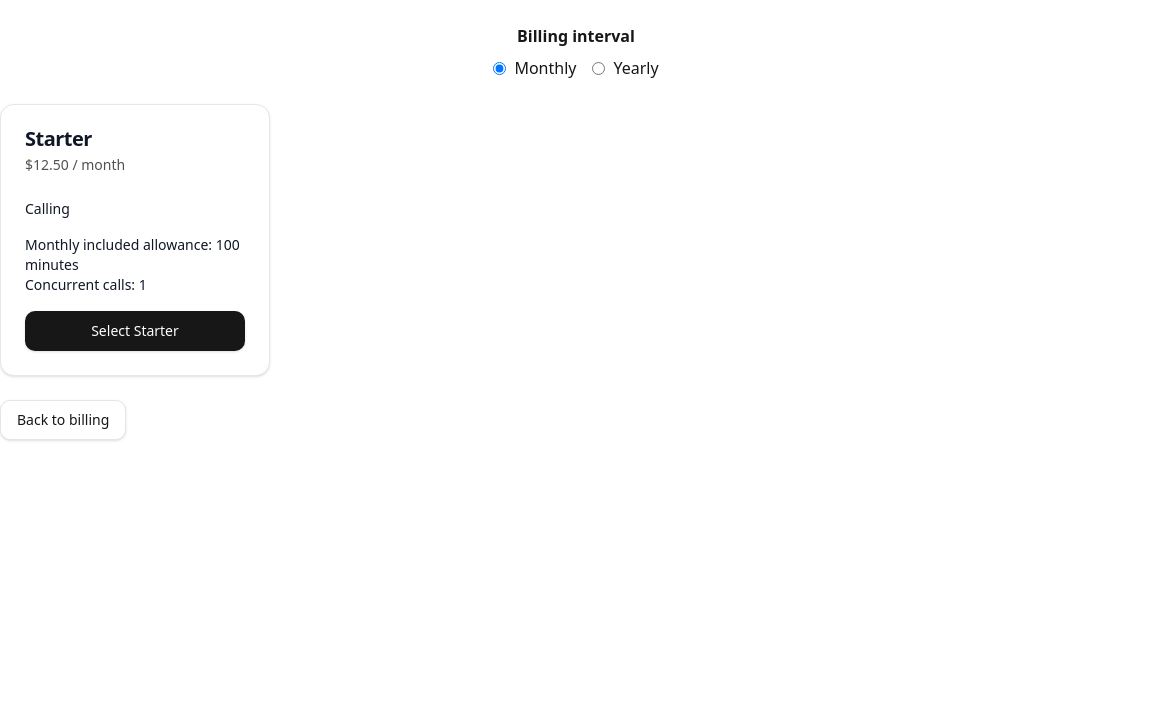
Test: an offer error without explicit pre-insert proof preserves the uncertain request
Click the button "Select Starter" at x=135, y=331, box [25,311,245,351]
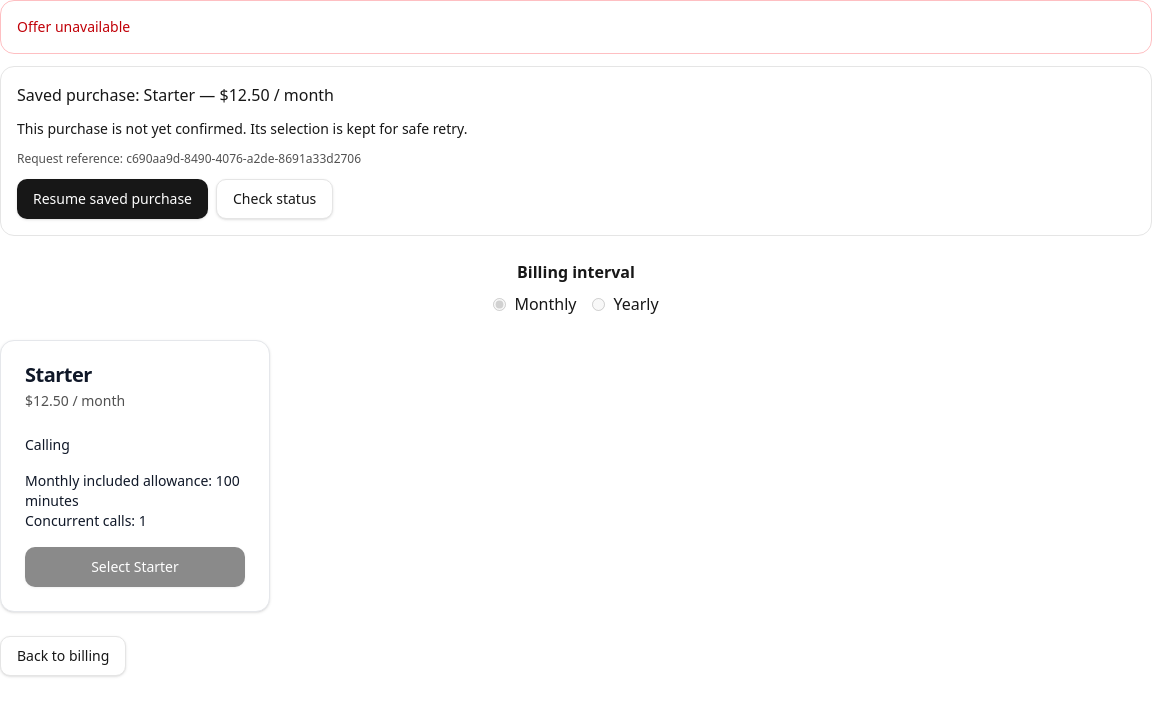
expect the text "Offer unavailable" is shown: met, box [0,0,1151,54]
expect the text "Saved purchase: Starter — $12.50 / month" is shown: met, box [17,84,334,106]
